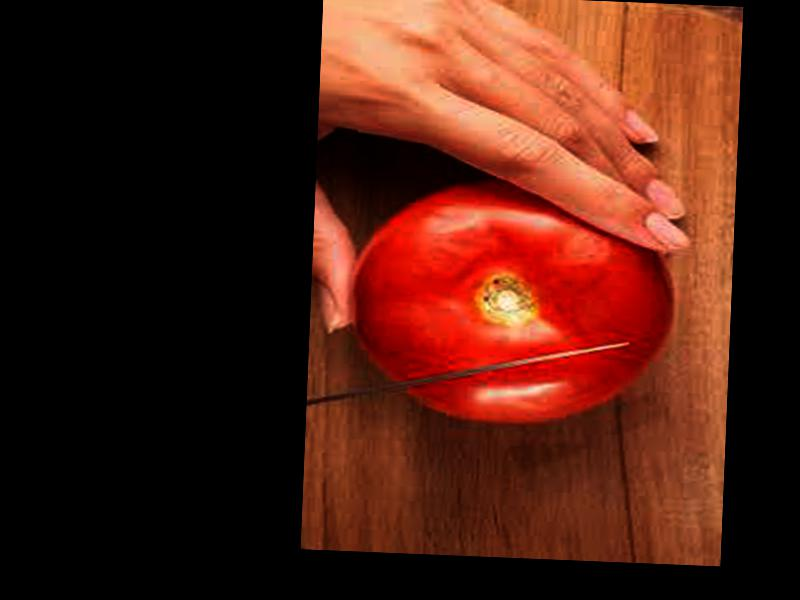Tomato: (351, 172, 675, 424)
